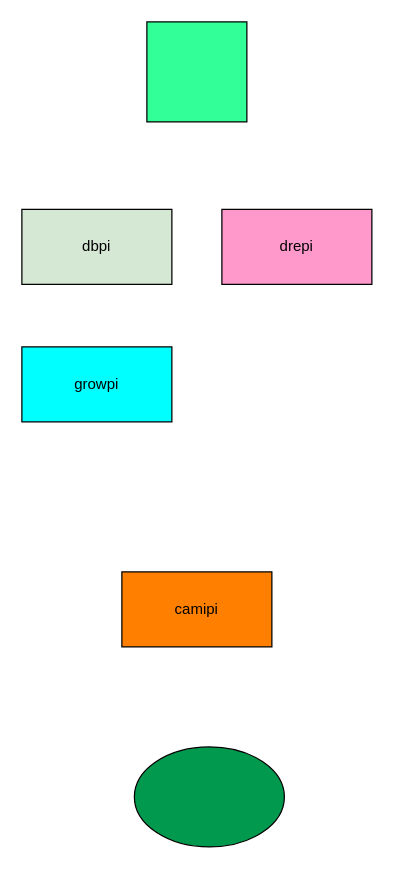
Some shapes in this 394 by 869 pixel diagram are drawn without their labels. Each missing label, with the centre of its shape:
"CAMI community" goes at [208,796].
"metapi" goes at [196,71].
